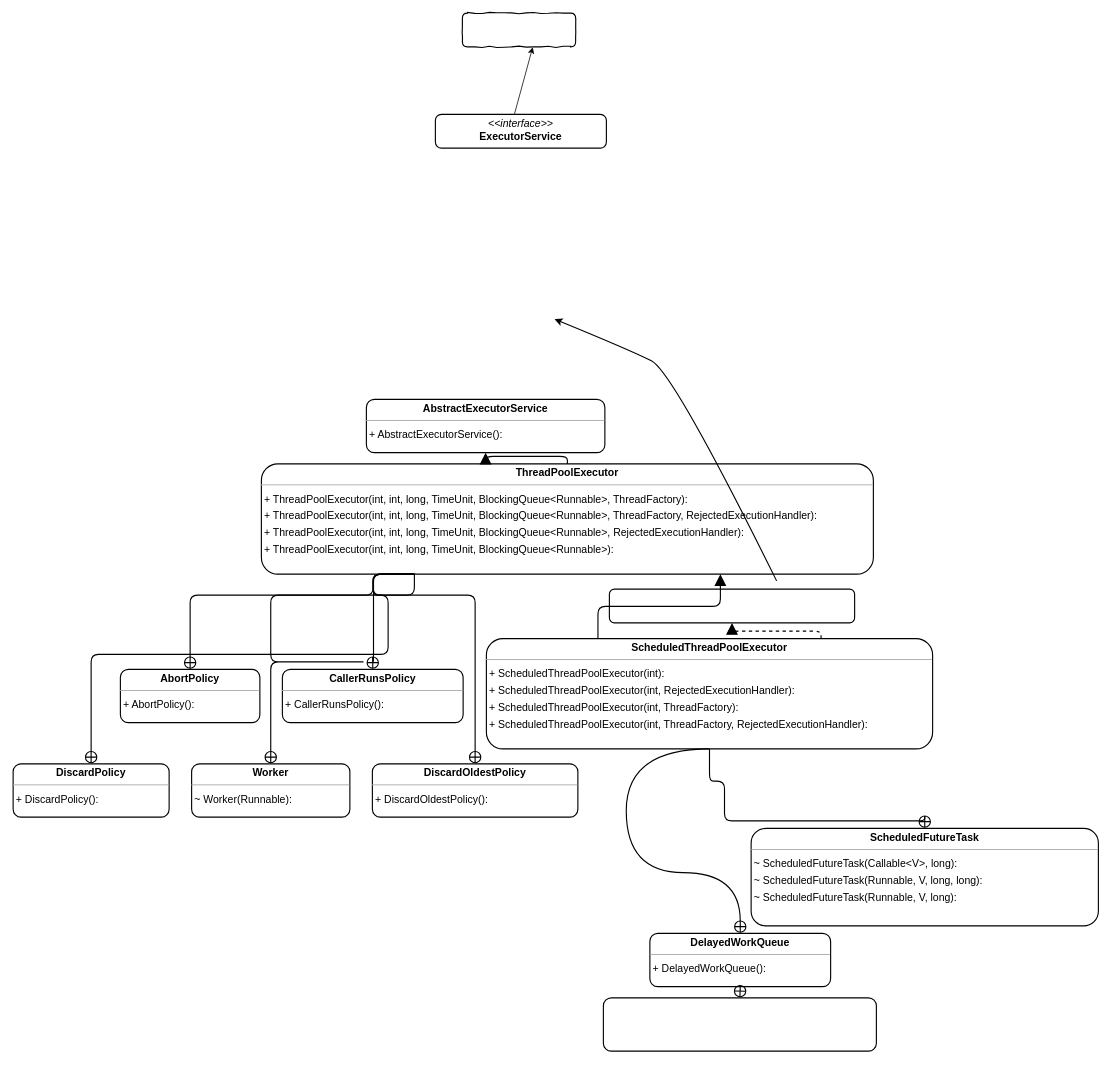
The diagram is 1112 pixels wide and 1065 high, and some of its shapes have lost their labels. Each missing label, with the centre of its shape:
<<interface>> Executor: point (518, 29)
<<interface>> ScheduledExecutorService: point (731, 605)
Itr ~ Itr(RunnableScheduledFuture<?>[]):: point (739, 1024)
